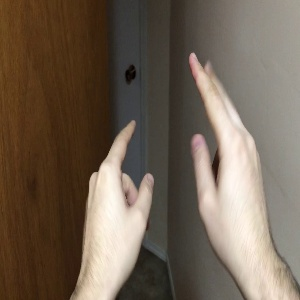hand: (189, 52, 273, 250), (82, 120, 153, 269)
